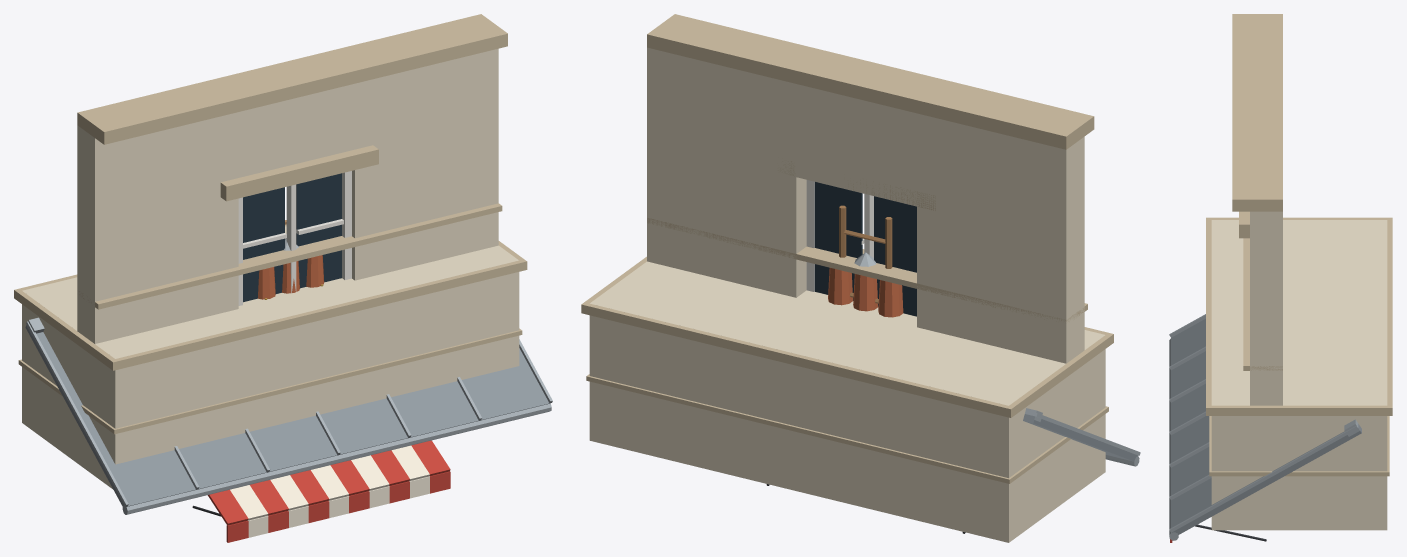
The model's file is decor.glb.
3 renders of one model, left to right at view 1: azimuth 30°, elevation 25°; view 2: azimuth 150°, elevation 25°; view 3: azimuth 270°, elevation 25°, orthographic. The views are drawn at different scales.
Visible parts, largest first — view 1: decor_facade_window, decor_building_below, decor_roof_zinc, decor_awning, decor_chimney.001; view 2: decor_facade_window, decor_building_below, decor_chimney.001, decor_roof_zinc, decor_ladder; view 3: decor_building_below, decor_facade_window, decor_roof_zinc.
Part boxes in pixels (<box>): decor_facade_window: <box>77,14,507,475</box>; decor_building_below: <box>14,224,527,488</box>; decor_roof_zinc: <box>25,317,552,514</box>; decor_awning: <box>192,440,450,542</box>; decor_chimney.001: <box>257,238,324,299</box>; decor_facade_window: <box>647,14,1094,500</box>; decor_building_below: <box>581,256,1113,542</box>; decor_chimney.001: <box>828,252,903,317</box>; decor_roof_zinc: <box>1023,408,1140,466</box>; decor_ladder: <box>839,205,892,303</box>; decor_building_below: <box>1206,217,1392,530</box>; decor_facade_window: <box>1232,14,1282,530</box>; decor_roof_zinc: <box>1169,314,1361,540</box>.
Bounding box in the file's own units: 4.22 × 3.93 × 2.04.
